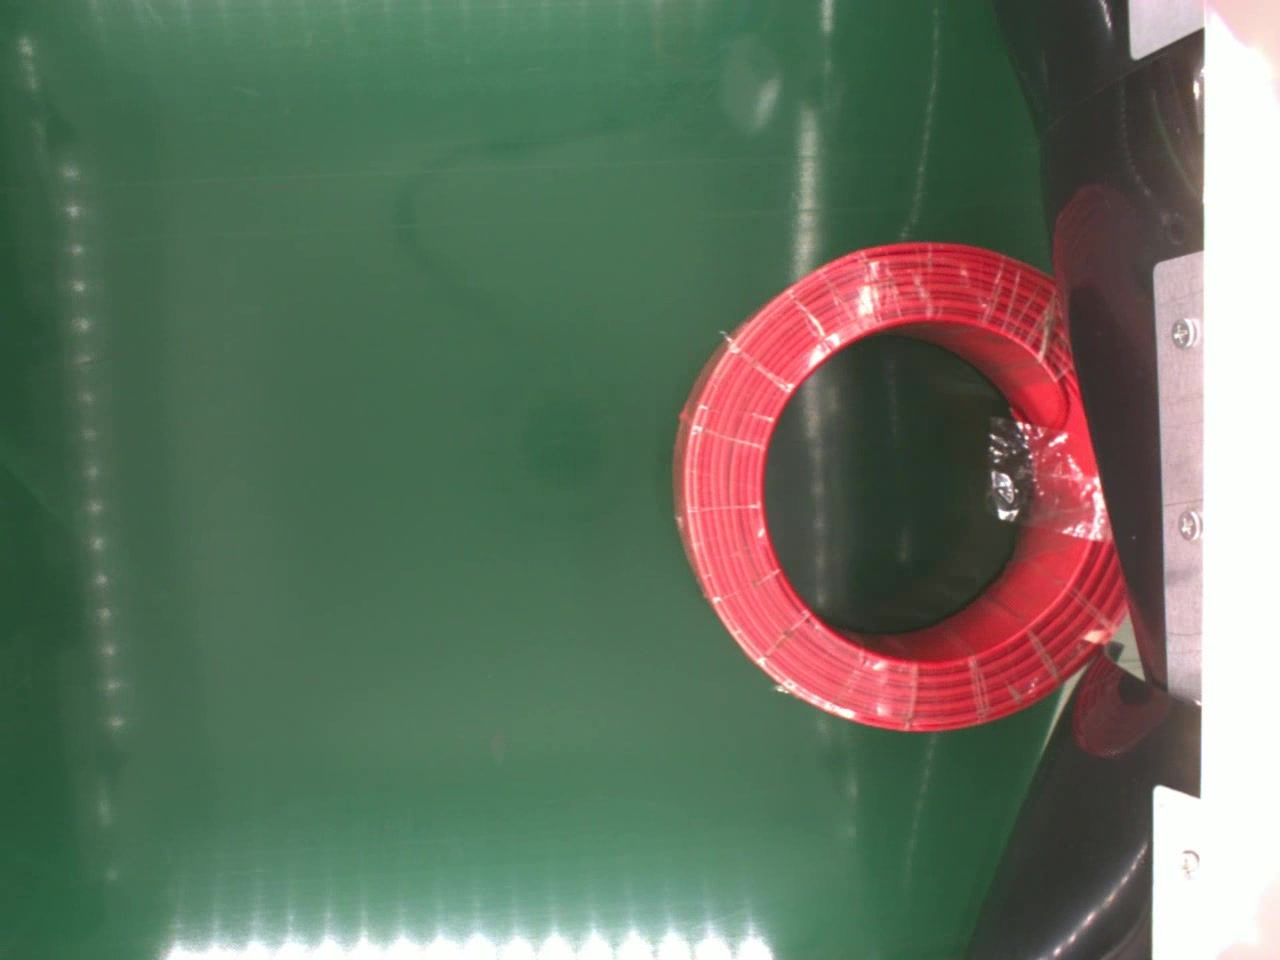red: (656, 237, 1130, 736)
